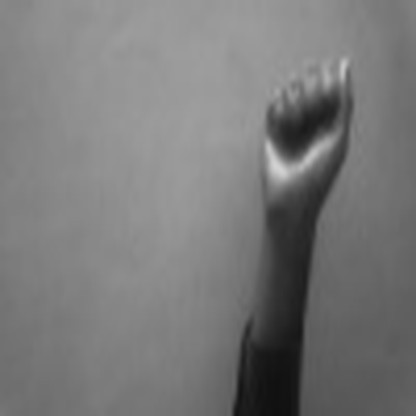a: (253, 42, 362, 225)
